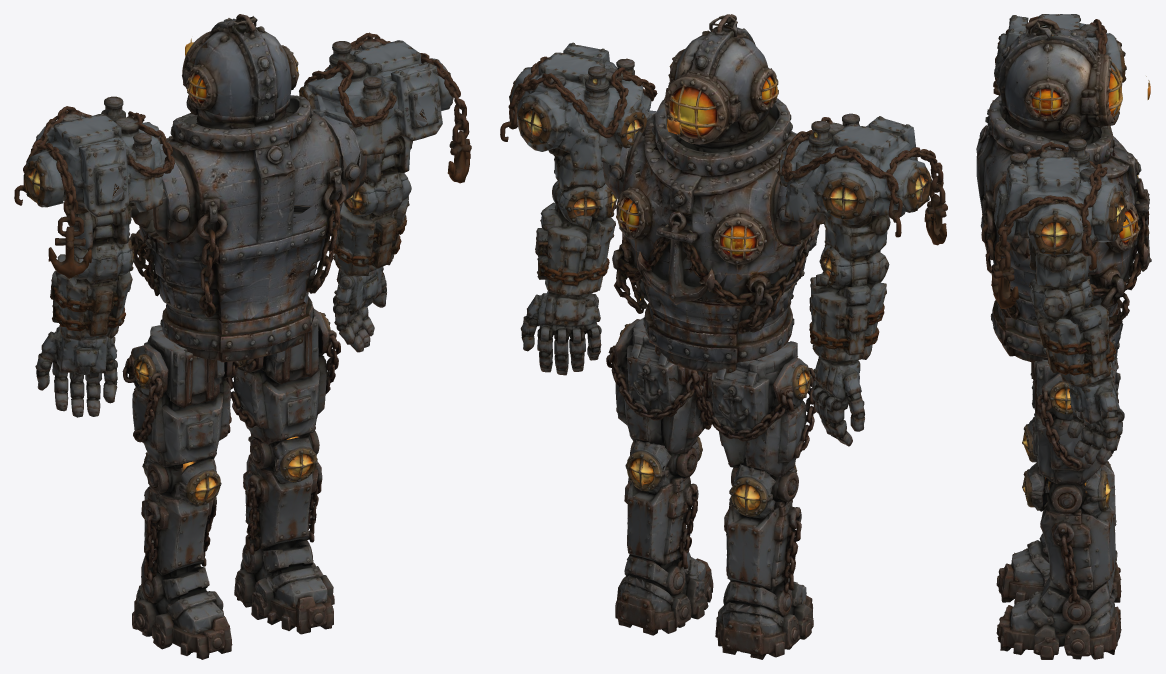
Rendered from Gear_T10.glb.
3 views of the same model, side by side, from view 1: azimuth 30°, elevation 25°; view 2: azimuth 150°, elevation 25°; view 3: azimuth 270°, elevation 25° (orthographic). The views are drawn at different scales.
Visible parts, largest first — view 1: Torso_Upper, ArmL_Upper, ArmR_Upper, LegL_Upper, LegR_Upper, Head, LegR_Foot, LegL_Foot, Torso_Lower, ArmL_Lower, ArmR_Lower, LegR_Lower (+3 smaller); view 2: Torso_Upper, ArmL_Upper, ArmR_Upper, LegL_Upper, LegR_Upper, Head, ArmR_Lower, ArmL_Lower, LegL_Foot, LegR_Foot, Torso_Lower, LegL_Lower (+3 smaller); view 3: ArmR_Upper, Torso_Upper, Head, LegR_Upper, LegR_Foot, ArmR_Lower, LegR_Lower, ArmR_Hand, LegL_Foot, ArmL_Upper, Torso_Lower, LegL_Upper (+1 smaller).
Part boxes in pixels (x1=…): Torso_Upper: x1=130, y1=87, x2=366, y2=324; ArmL_Upper: x1=14, y1=96, x2=174, y2=278; ArmR_Upper: x1=299, y1=32, x2=471, y2=193; LegL_Upper: x1=122, y1=325, x2=239, y2=504; LegR_Upper: x1=225, y1=309, x2=340, y2=480; Head: x1=182, y1=14, x2=299, y2=117; LegR_Foot: x1=234, y1=529, x2=334, y2=634; LegL_Foot: x1=132, y1=552, x2=232, y2=659; Torso_Lower: x1=156, y1=293, x2=314, y2=362; ArmL_Lower: x1=50, y1=245, x2=134, y2=340; ArmR_Lower: x1=330, y1=179, x2=411, y2=276; LegR_Lower: x1=243, y1=454, x2=322, y2=546; Torso_Upper: x1=602, y1=98, x2=824, y2=332; ArmL_Upper: x1=777, y1=113, x2=947, y2=266; ArmR_Upper: x1=500, y1=42, x2=657, y2=201; LegL_Upper: x1=700, y1=341, x2=815, y2=514; LegR_Upper: x1=606, y1=317, x2=711, y2=489; Head: x1=664, y1=14, x2=778, y2=134; ArmR_Lower: x1=535, y1=184, x2=616, y2=303; ArmL_Lower: x1=809, y1=250, x2=889, y2=372; LegL_Foot: x1=715, y1=570, x2=813, y2=659; LegR_Foot: x1=615, y1=543, x2=713, y2=635; Torso_Lower: x1=637, y1=303, x2=794, y2=373; LegL_Lower: x1=724, y1=499, x2=801, y2=589; ArmR_Upper: x1=991, y1=138, x2=1126, y2=309; Torso_Upper: x1=976, y1=95, x2=1151, y2=325; Head: x1=996, y1=18, x2=1150, y2=122; LegR_Upper: x1=1022, y1=359, x2=1120, y2=515; LegR_Foot: x1=996, y1=577, x2=1121, y2=659; ArmR_Lower: x1=1029, y1=284, x2=1115, y2=390; LegR_Lower: x1=1028, y1=502, x2=1116, y2=594; ArmR_Hand: x1=1067, y1=384, x2=1124, y2=464; LegL_Foot: x1=996, y1=533, x2=1121, y2=604; ArmL_Upper: x1=992, y1=14, x2=1126, y2=125; Torso_Lower: x1=990, y1=300, x2=1123, y2=362; LegL_Upper: x1=1022, y1=342, x2=1119, y2=461.
Bounding box in the file's own units: 4.5 × 6.25 × 1.65.
Materials: 3 (3 with a texture image).
